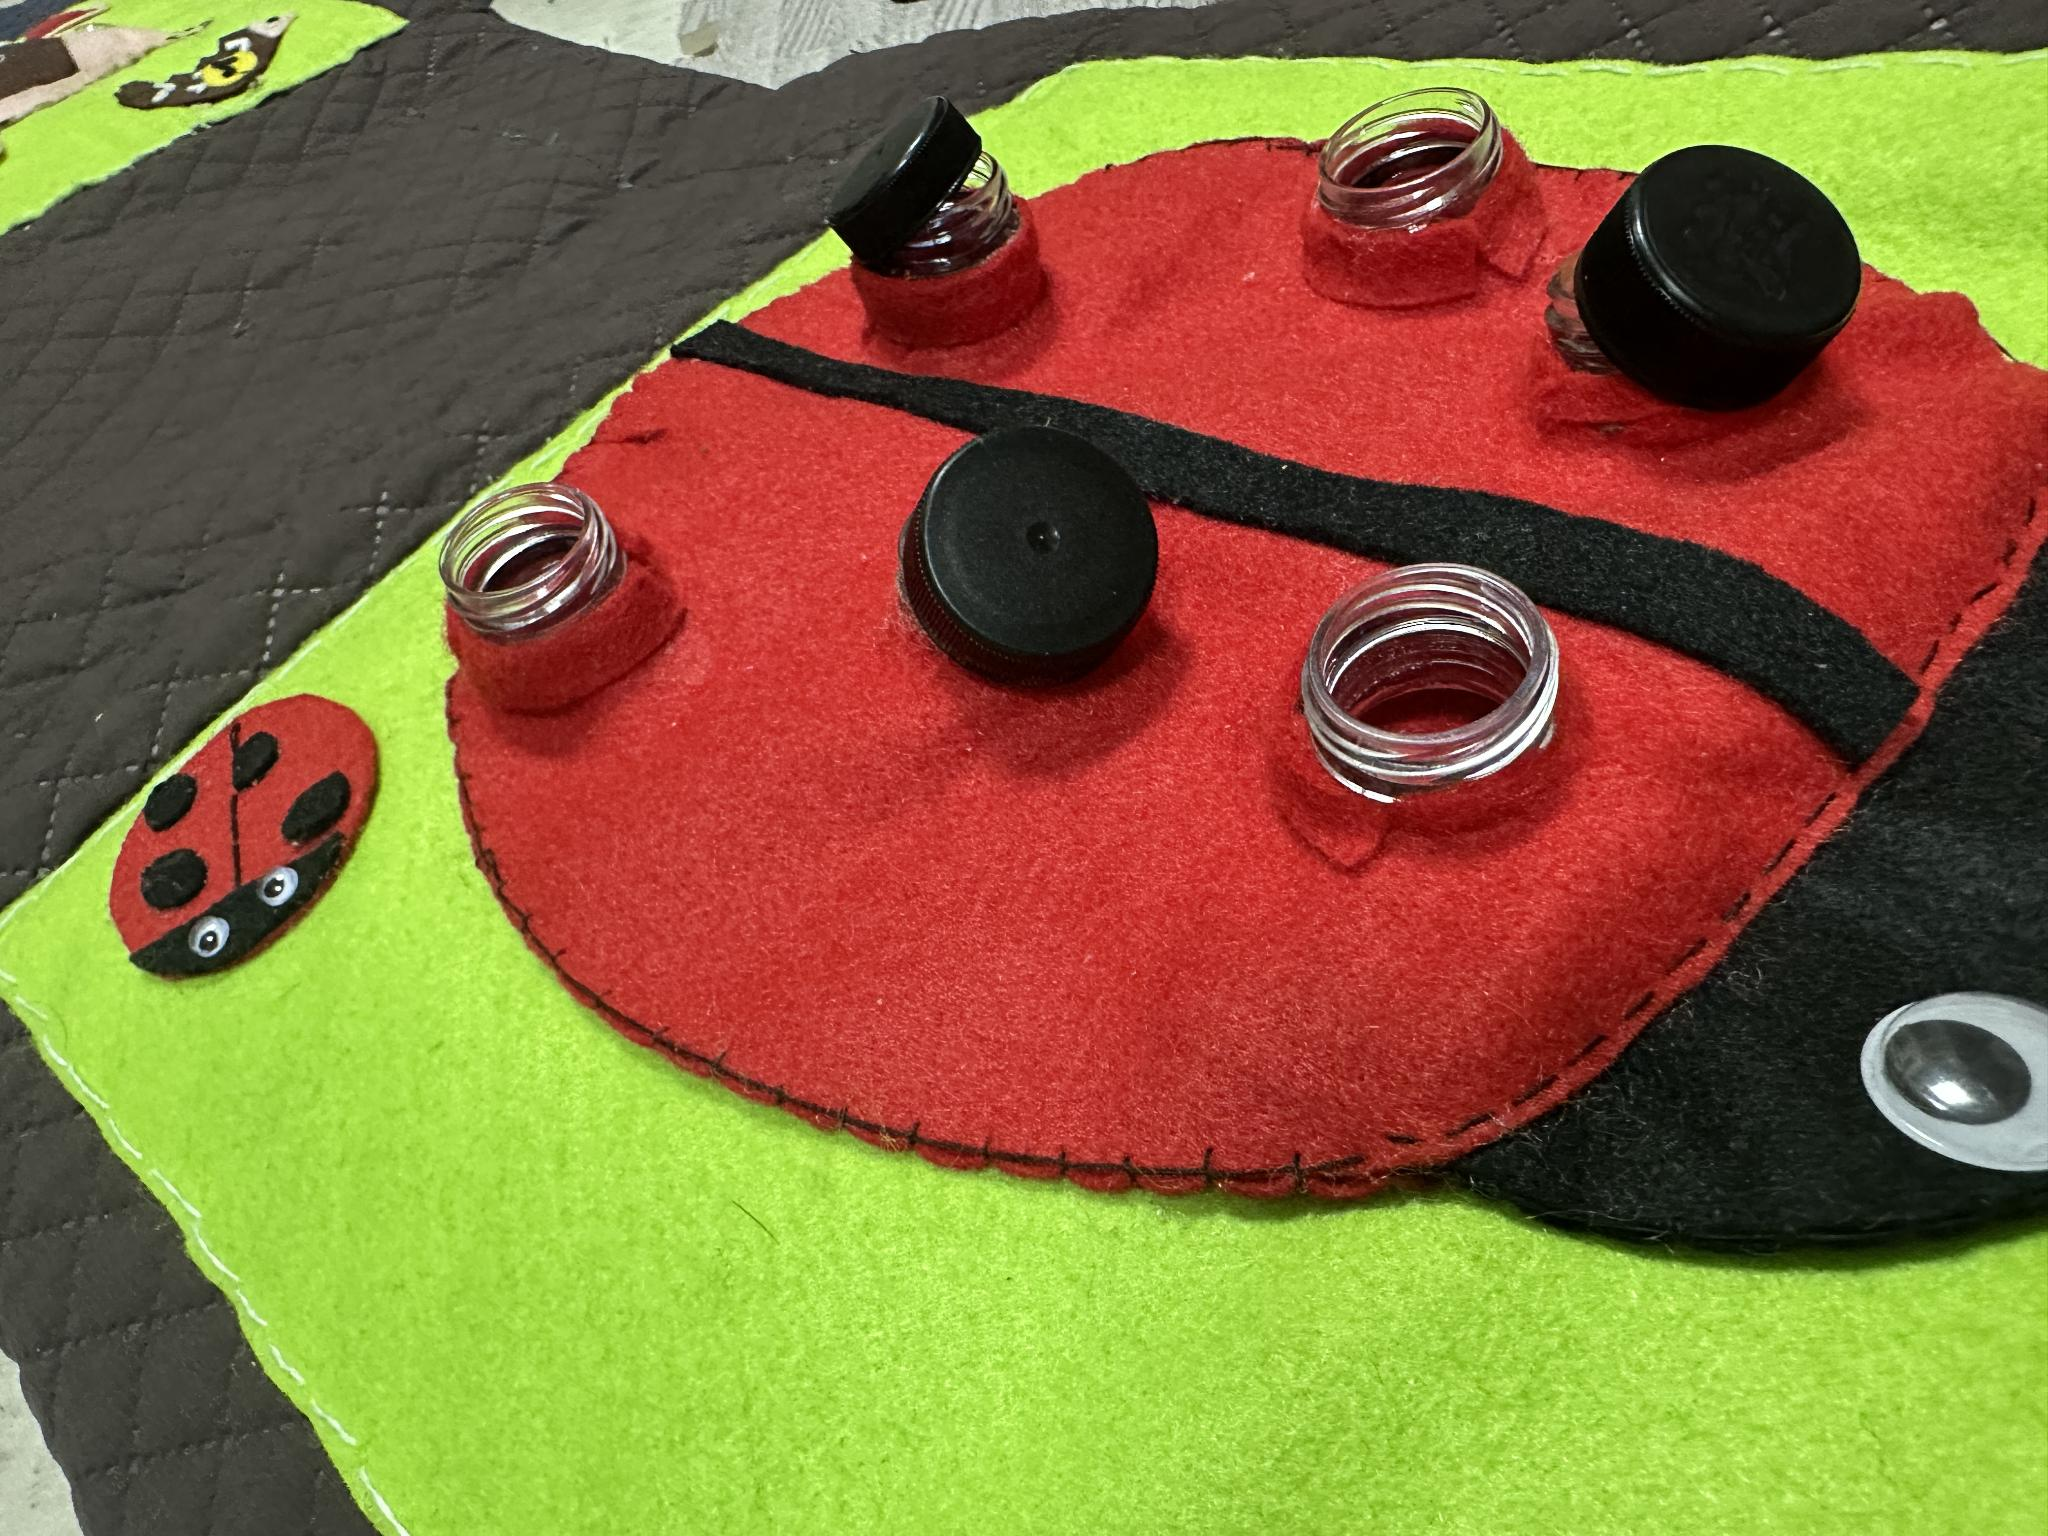cap_ng: (1551, 131, 1866, 439), (864, 399, 1177, 705), (816, 103, 1055, 353)
